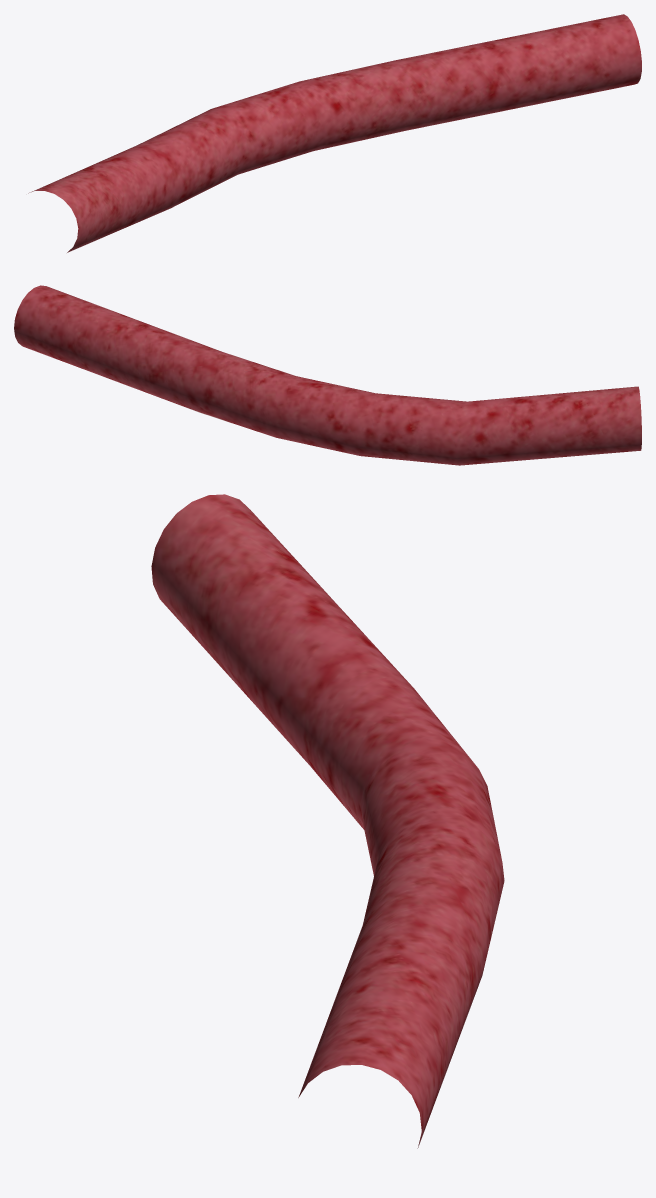
The model's file is Renal_Artery.glb.
3 renders of one model, top to bottom at view 1: azimuth 30°, elevation 25°; view 2: azimuth 150°, elevation 25°; view 3: azimuth 270°, elevation 25°, orthographic. The views are drawn at different scales.
Visible parts, largest first — view 1: renal_artery; view 2: renal_artery; view 3: renal_artery.
Part boxes in pixels (x1=…): renal_artery: x1=28, y1=14, x2=641, y2=252; renal_artery: x1=14, y1=285, x2=641, y2=465; renal_artery: x1=151, y1=494, x2=504, y2=1148.
Bounding box in the file's own units: 34.1 × 4.35 × 8.88.
Materials: 1 (1 with a texture image).
